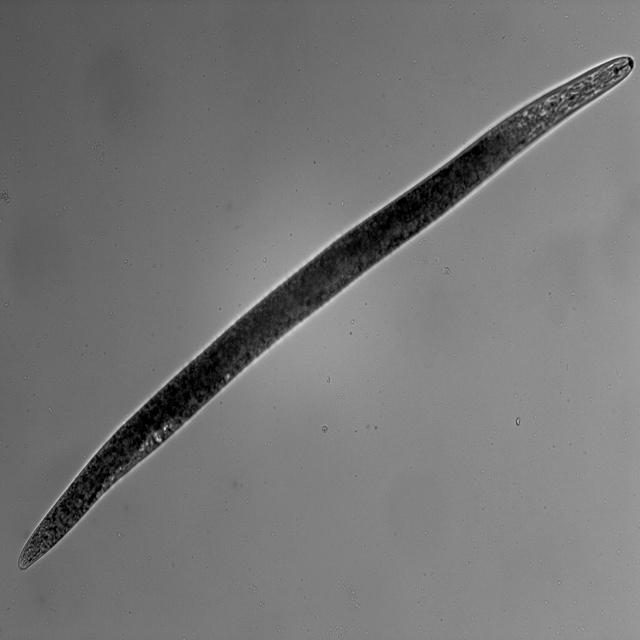Pratylenchus: (12, 51, 636, 576)
